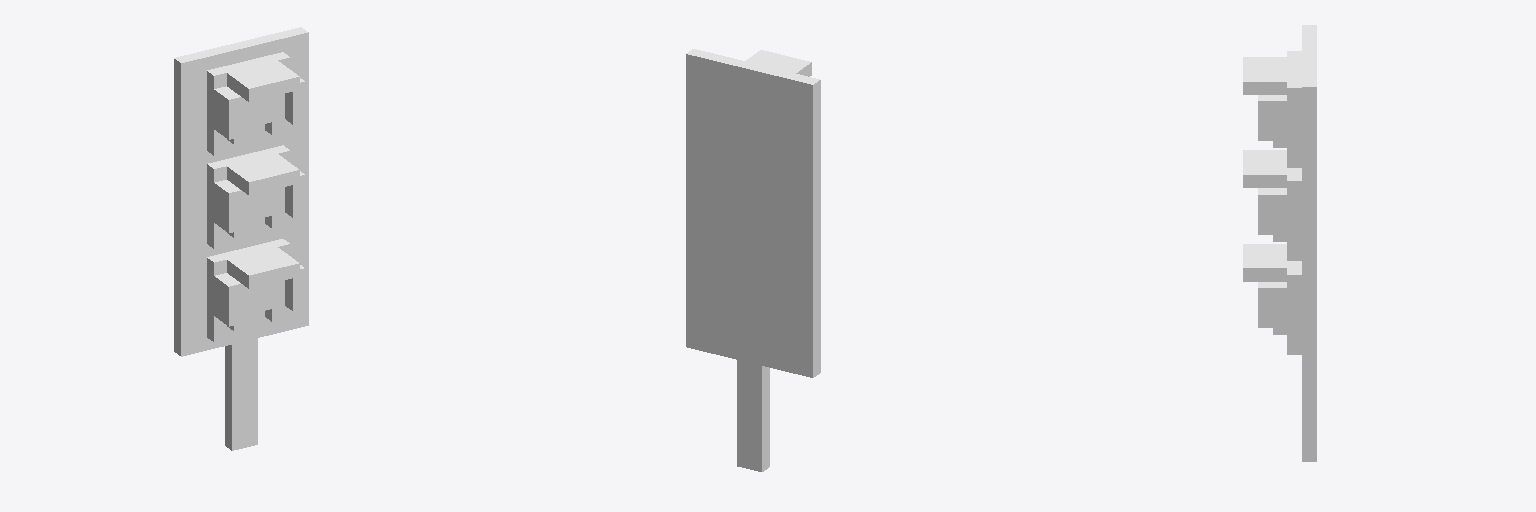
Rendered from TrafficLight.obj.
3 renders of one model, left to right at view 1: azimuth 30°, elevation 25°; view 2: azimuth 150°, elevation 25°; view 3: azimuth 270°, elevation 25°, orthographic.
Parts seen in each view (by area): view 1: object 1; view 2: object 1; view 3: object 1.
Boxes of the visible parts, x1,y1,x2,y2 form: object 1: [174, 27, 308, 450]; object 1: [686, 49, 820, 471]; object 1: [1243, 25, 1316, 461].
Size of the model in its own units: 1 by 3 by 0.5.